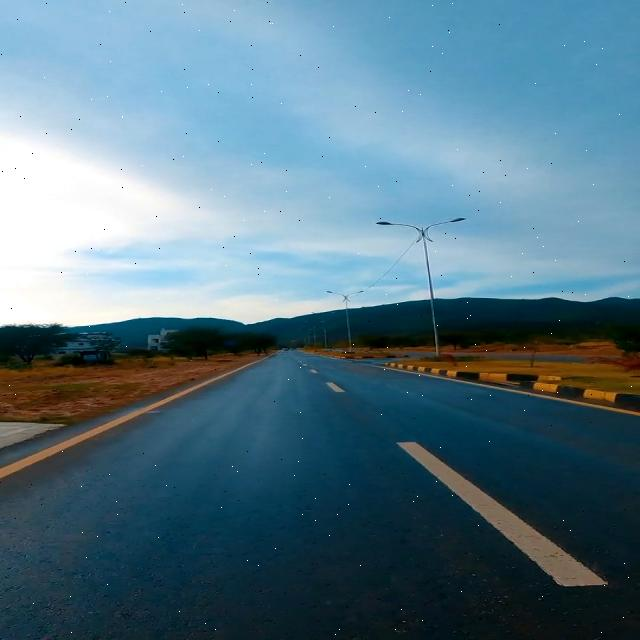lane: (0, 354, 271, 478), (397, 442, 606, 586)
road: (2, 352, 636, 639), (396, 441, 608, 587), (397, 442, 606, 586)
